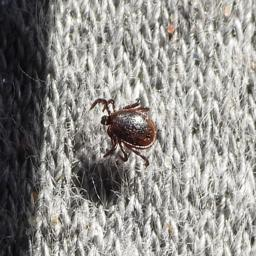Ixodes scapularis: (90, 98, 162, 164)
